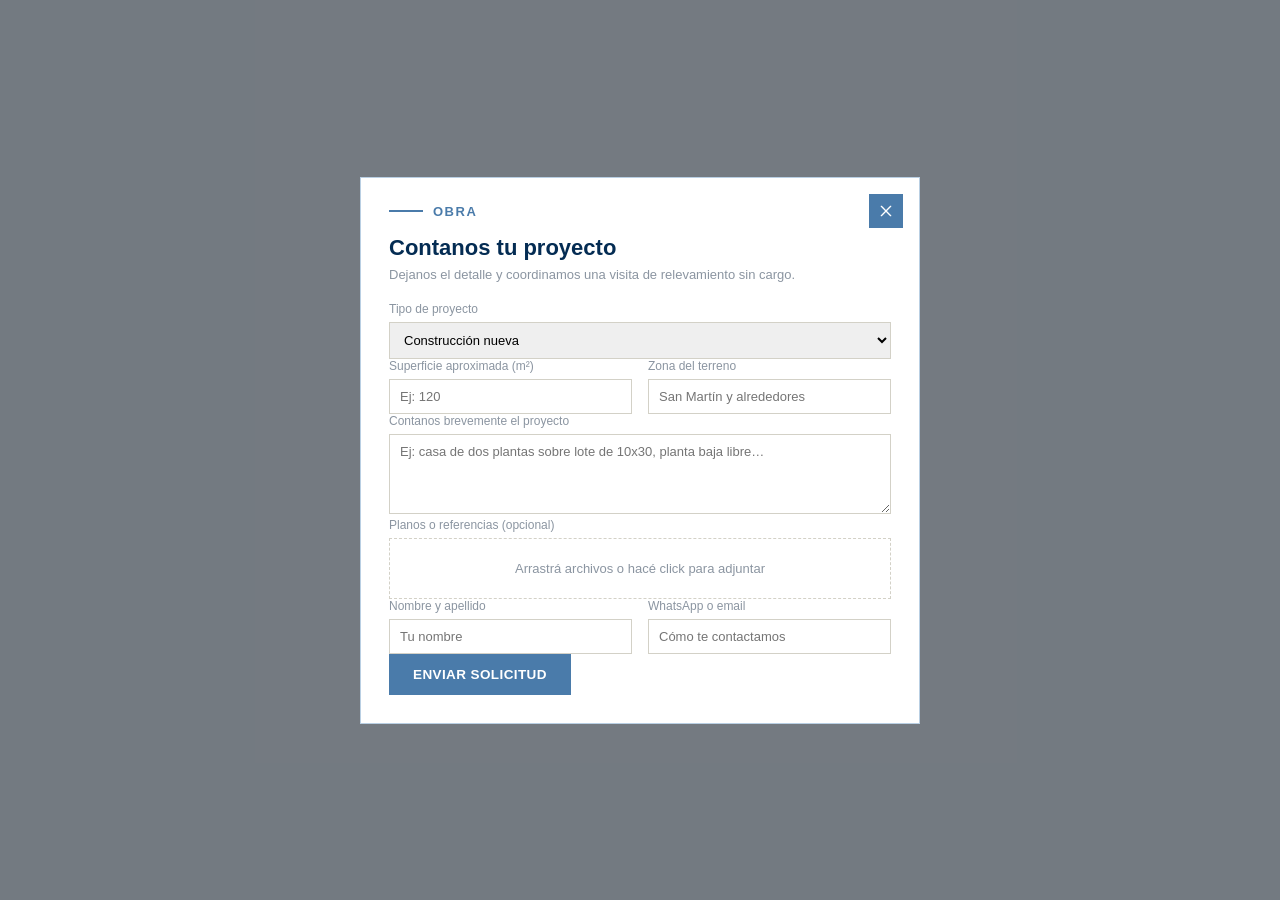
Test: ObraModal › envía la solicitud sin adjunto y muestra confirmación
In the field labelled "Zona del terreno": (770, 396) [648, 378, 891, 414], type "San Martín centro"
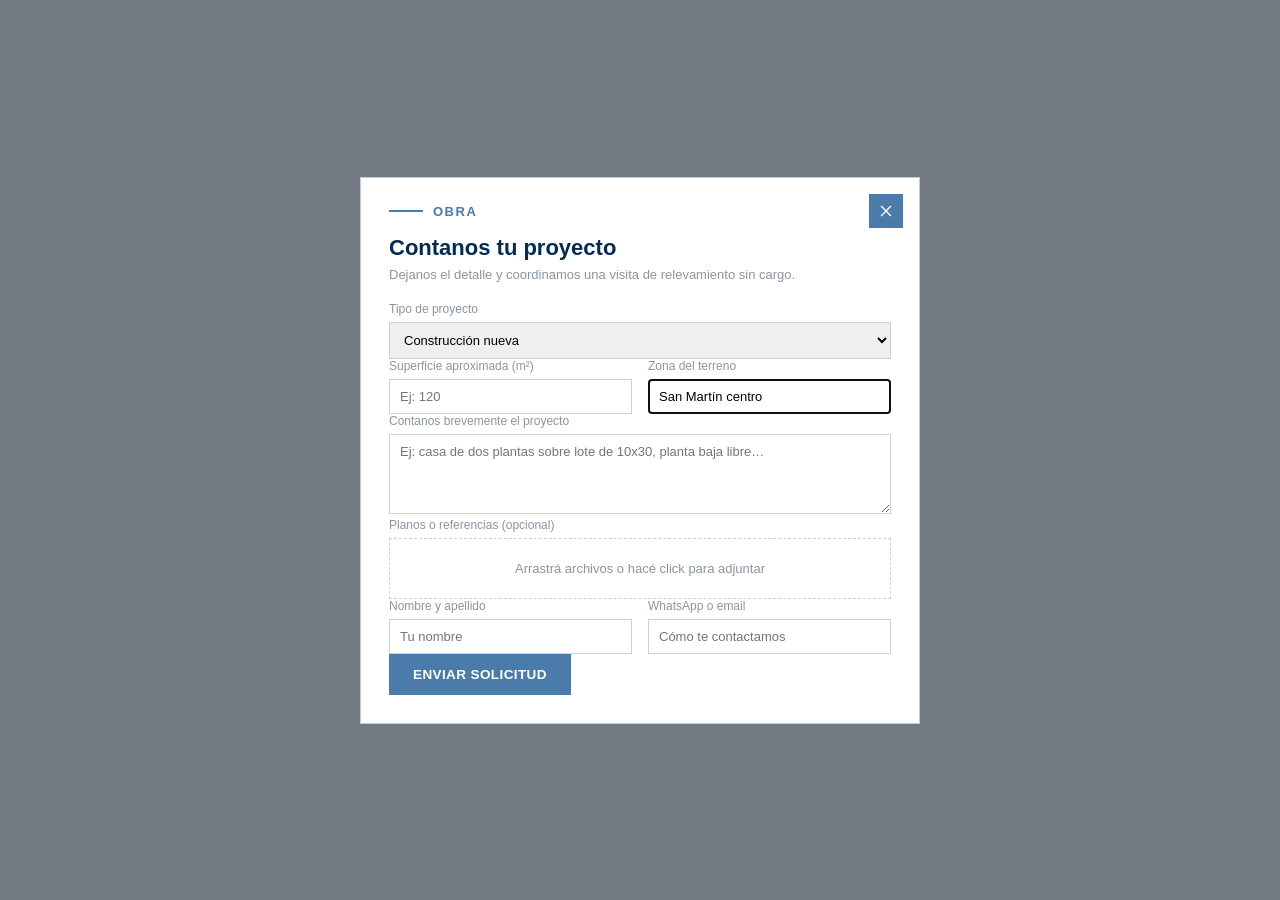
In the text box labelled "Contanos brevemente el proyecto": (640, 474) [389, 434, 891, 514], type "Casa de dos plantas sobre lote de 10x30."
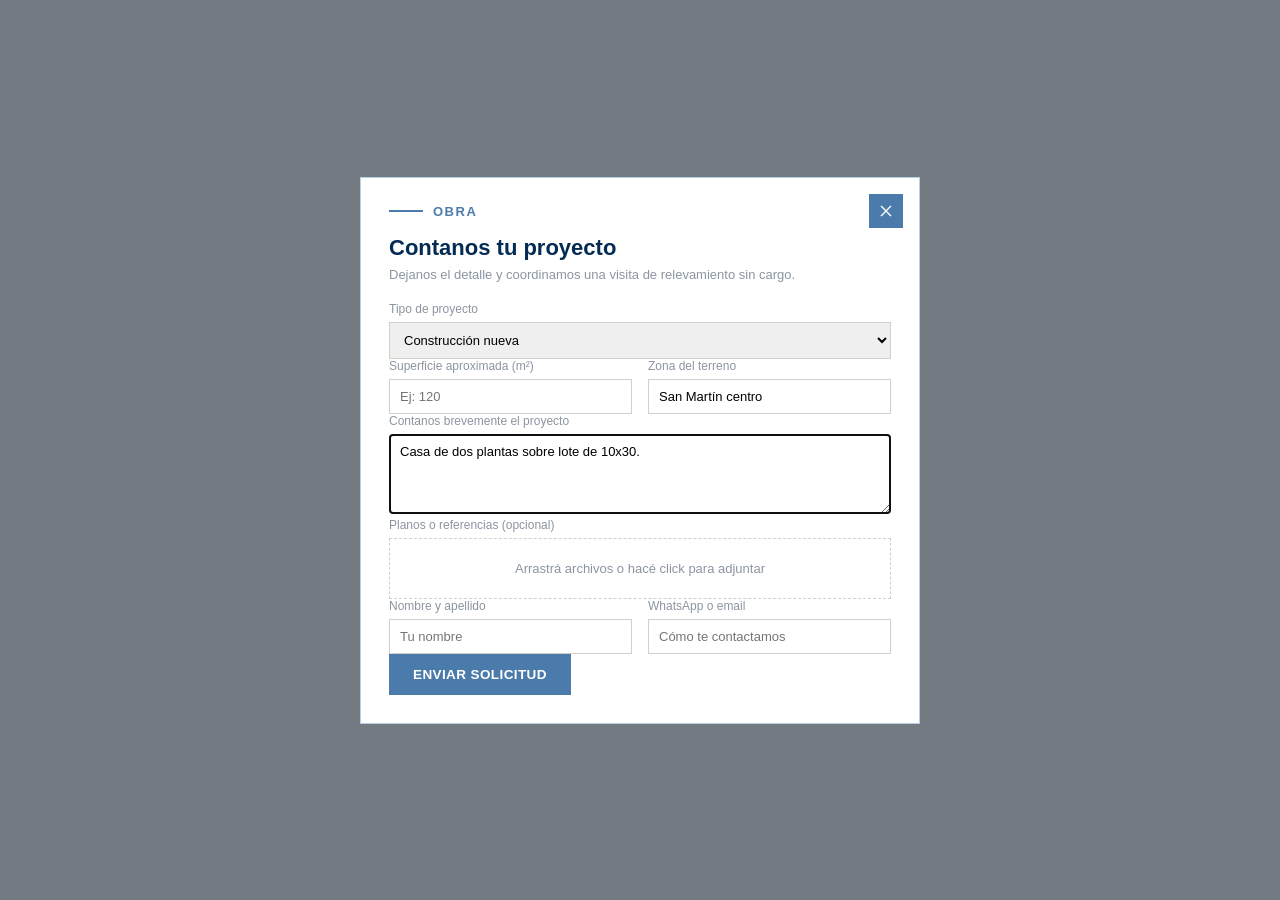
In the field labelled "Nombre y apellido": (510, 636) [389, 618, 632, 654], type "Juan Pérez"
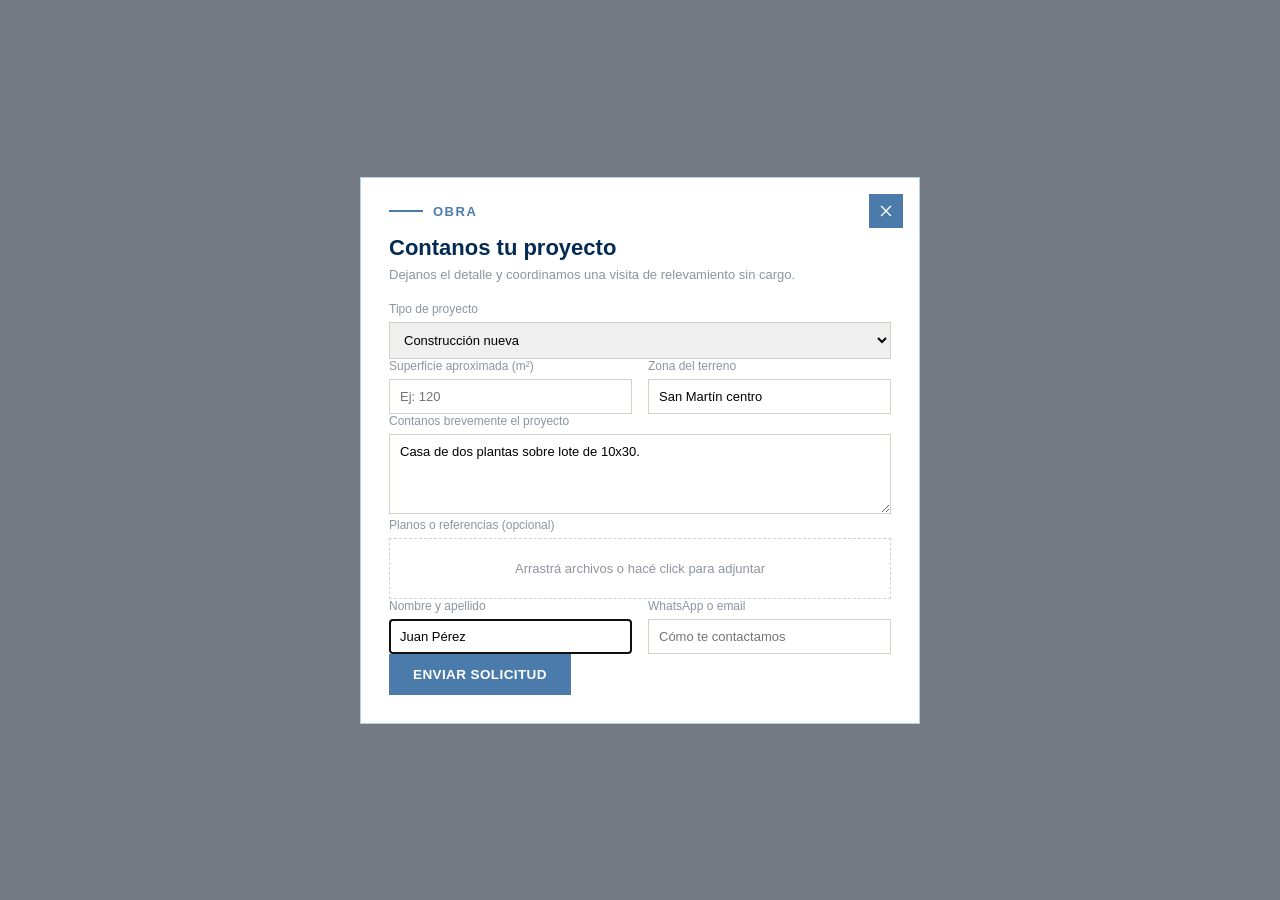
In the field labelled "WhatsApp o email": (770, 636) [648, 618, 891, 654], type "11-5555-1234"
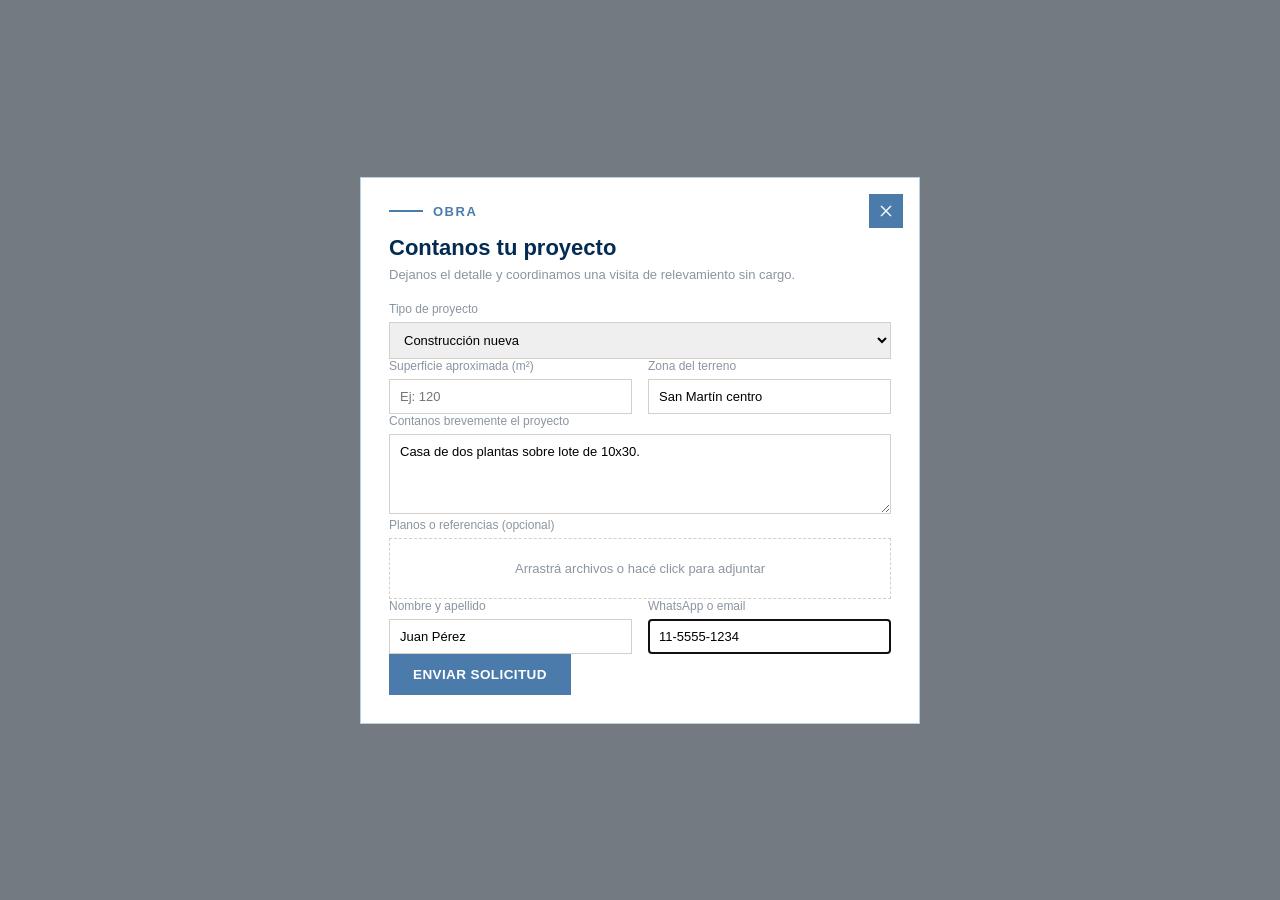
Click the button "Enviar solicitud": (480, 674) [389, 654, 571, 694]
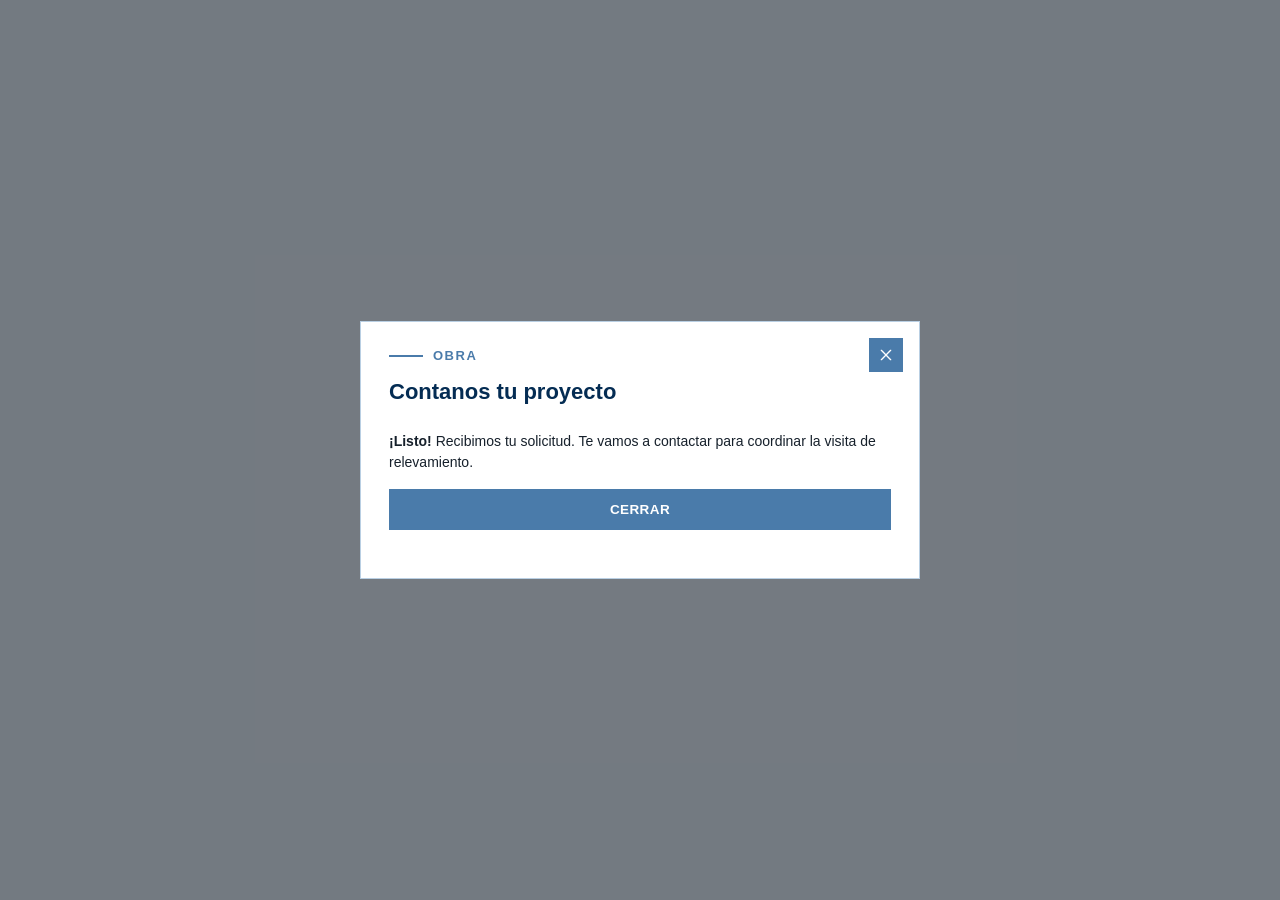
Check: the text "Recibimos tu solicitud" is shown, box [389, 433, 876, 470]
